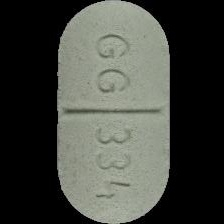0781-5183: (0, 0, 224, 224)
